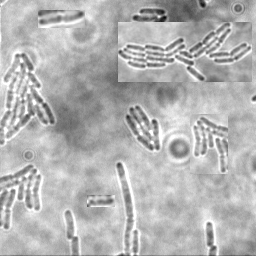Dividing: (114, 161, 133, 255), (38, 10, 85, 28), (204, 221, 215, 248)
Microcolony: (118, 22, 252, 82), (1, 51, 56, 147), (1, 162, 44, 231), (190, 114, 228, 174), (124, 106, 160, 153), (63, 208, 74, 240)
Rod: (87, 195, 115, 207)
